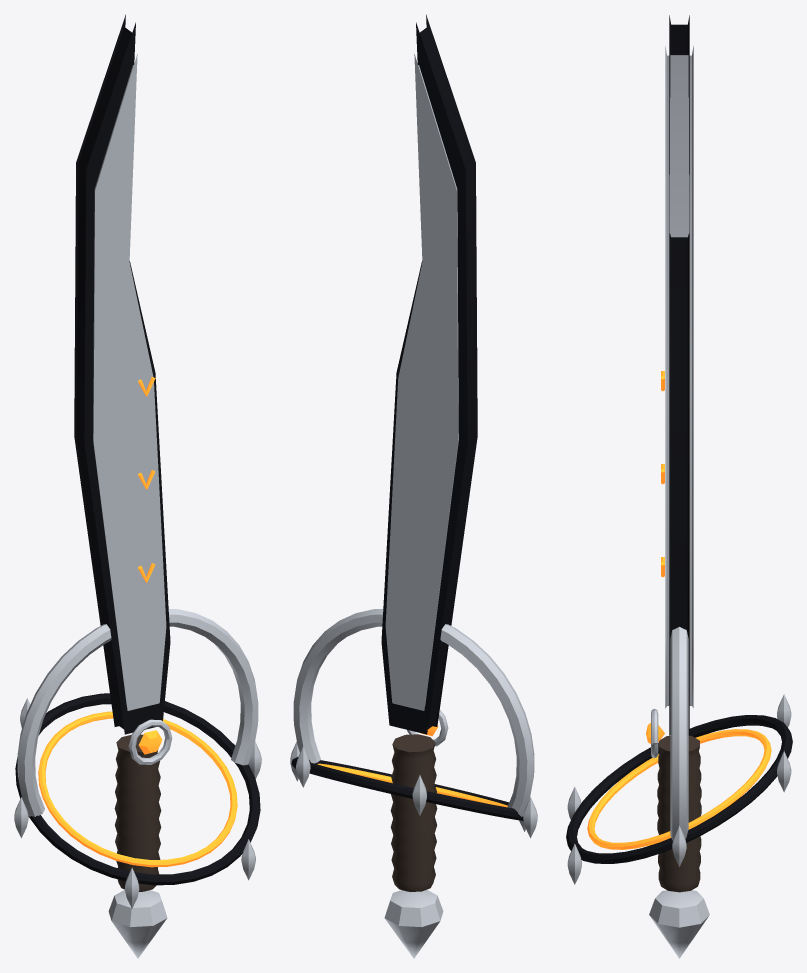
Rendered from esc_w_knight_sword_4.glb.
3 renders of one model, left to right at view 1: azimuth 30°, elevation 25°; view 2: azimuth 150°, elevation 25°; view 3: azimuth 270°, elevation 25°, orthographic.
Visible parts, largest first — view 1: esc_w_knight_sword_4; view 2: esc_w_knight_sword_4; view 3: esc_w_knight_sword_4.
Boxes of the visible parts, left/top/right/bottom form: esc_w_knight_sword_4: left=14, top=14, right=261, bottom=958; esc_w_knight_sword_4: left=290, top=14, right=537, bottom=958; esc_w_knight_sword_4: left=566, top=15, right=792, bottom=958.
Bounding box in the file's own units: 0.3092 × 1.13 × 0.2457.
